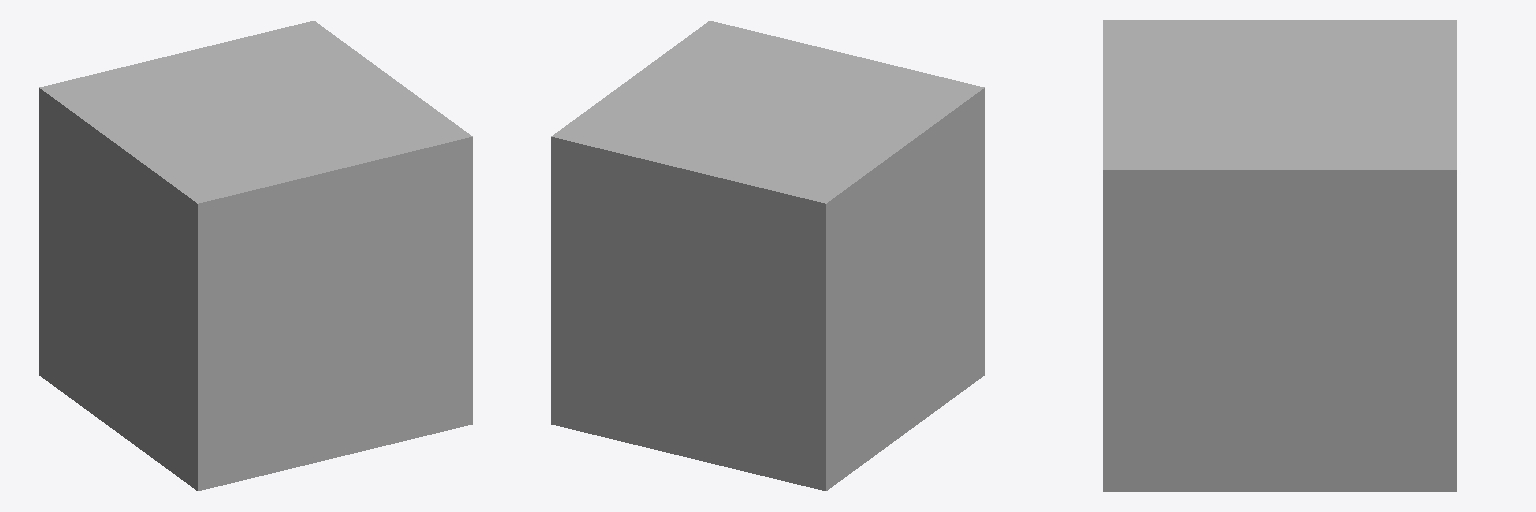
The robot description file, URDF, robot "root":
<robot name="root">
  <link name="link_ycb~cubei21_convex_piece_0">
    <inertial>
      <origin xyz="0 0 0" rpy="0 0 0"/>
      <mass value="8.78E-02"/>
      <inertia ixx="1.15E-05" ixy="-0.00E+00" ixz="-0.00E+00" iyy="1.15E-05" iyz="-0.00E+00" izz="1.15E-05"/>
    </inertial>
    <visual>
      <origin xyz="0 0 0" rpy="0 0 0"/>
      <geometry>
        <mesh filename="ycb~cubei21_convex_piece_0.obj" scale="1.0000E+00 1.0000E+00 1.0000E+00"/>
      </geometry>
      <material name="">
        <color rgba="7.50E-01 7.50E-01 7.50E-01 1"/>
      </material>
    </visual>
    <collision>
      <origin xyz="0 0 0" rpy="0 0 0"/>
      <geometry>
        <mesh filename="ycb~cubei21_convex_piece_0.obj" scale="1.0000E+00 1.0000E+00 1.0000E+00"/>
      </geometry>
    </collision>
  </link>
</robot>

--- What the picture shows (computed from the rendered views, not written in the file) ---
Views: 3 orthographic renders of the robot side by side, from view 1: azimuth 30°, elevation 25°; view 2: azimuth 150°, elevation 25°; view 3: azimuth 270°, elevation 25°.
Robot: root — 1 links, 0 joints (none); root link link_ycb~cubei21_convex_piece_0; default pose: every joint at zero.
Links seen in each view (by area): view 1: link_ycb~cubei21_convex_piece_0; view 2: link_ycb~cubei21_convex_piece_0; view 3: link_ycb~cubei21_convex_piece_0.
Link boxes in pixels (x1=…): link_ycb~cubei21_convex_piece_0: x1=39, y1=21, x2=472, y2=490; link_ycb~cubei21_convex_piece_0: x1=551, y1=21, x2=984, y2=490; link_ycb~cubei21_convex_piece_0: x1=1103, y1=20, x2=1456, y2=491.
Bounding box of the posed robot: 0.028 × 0.028 × 0.028 m (x, y, z).
Meshes: 1 distinct files referenced, 1 mesh visuals loaded (1 OBJ).